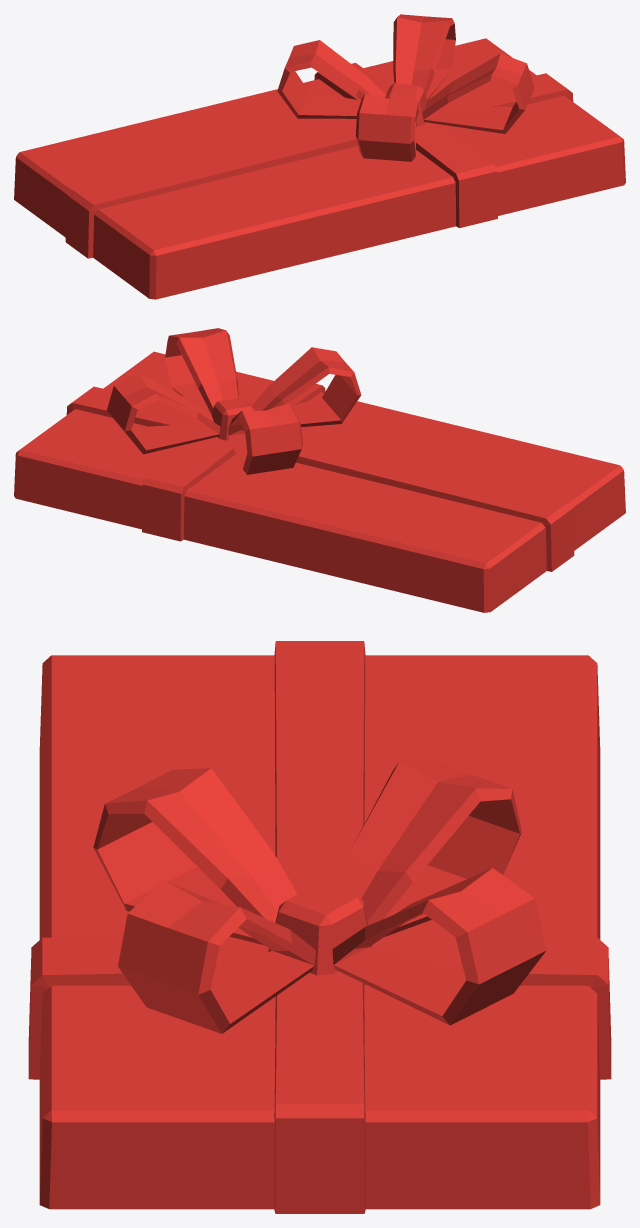
The model's file is SM_Gift_Christmas_Long_Open_Lid.fbx.
3 views of the same model, one above another, from view 1: azimuth 30°, elevation 25°; view 2: azimuth 150°, elevation 25°; view 3: azimuth 270°, elevation 25° (orthographic). The views are drawn at different scales.
Parts seen in each view (by area): view 1: gift-christmas-long-open-lid; view 2: gift-christmas-long-open-lid; view 3: gift-christmas-long-open-lid.
Boxes of the visible parts, box(x1,y1,x2,y2) form: gift-christmas-long-open-lid: box(14, 14, 625, 299); gift-christmas-long-open-lid: box(14, 328, 625, 612); gift-christmas-long-open-lid: box(28, 641, 611, 1213).
Size of the model in its own units: 0.6387 by 0.1447 by 0.3314.
